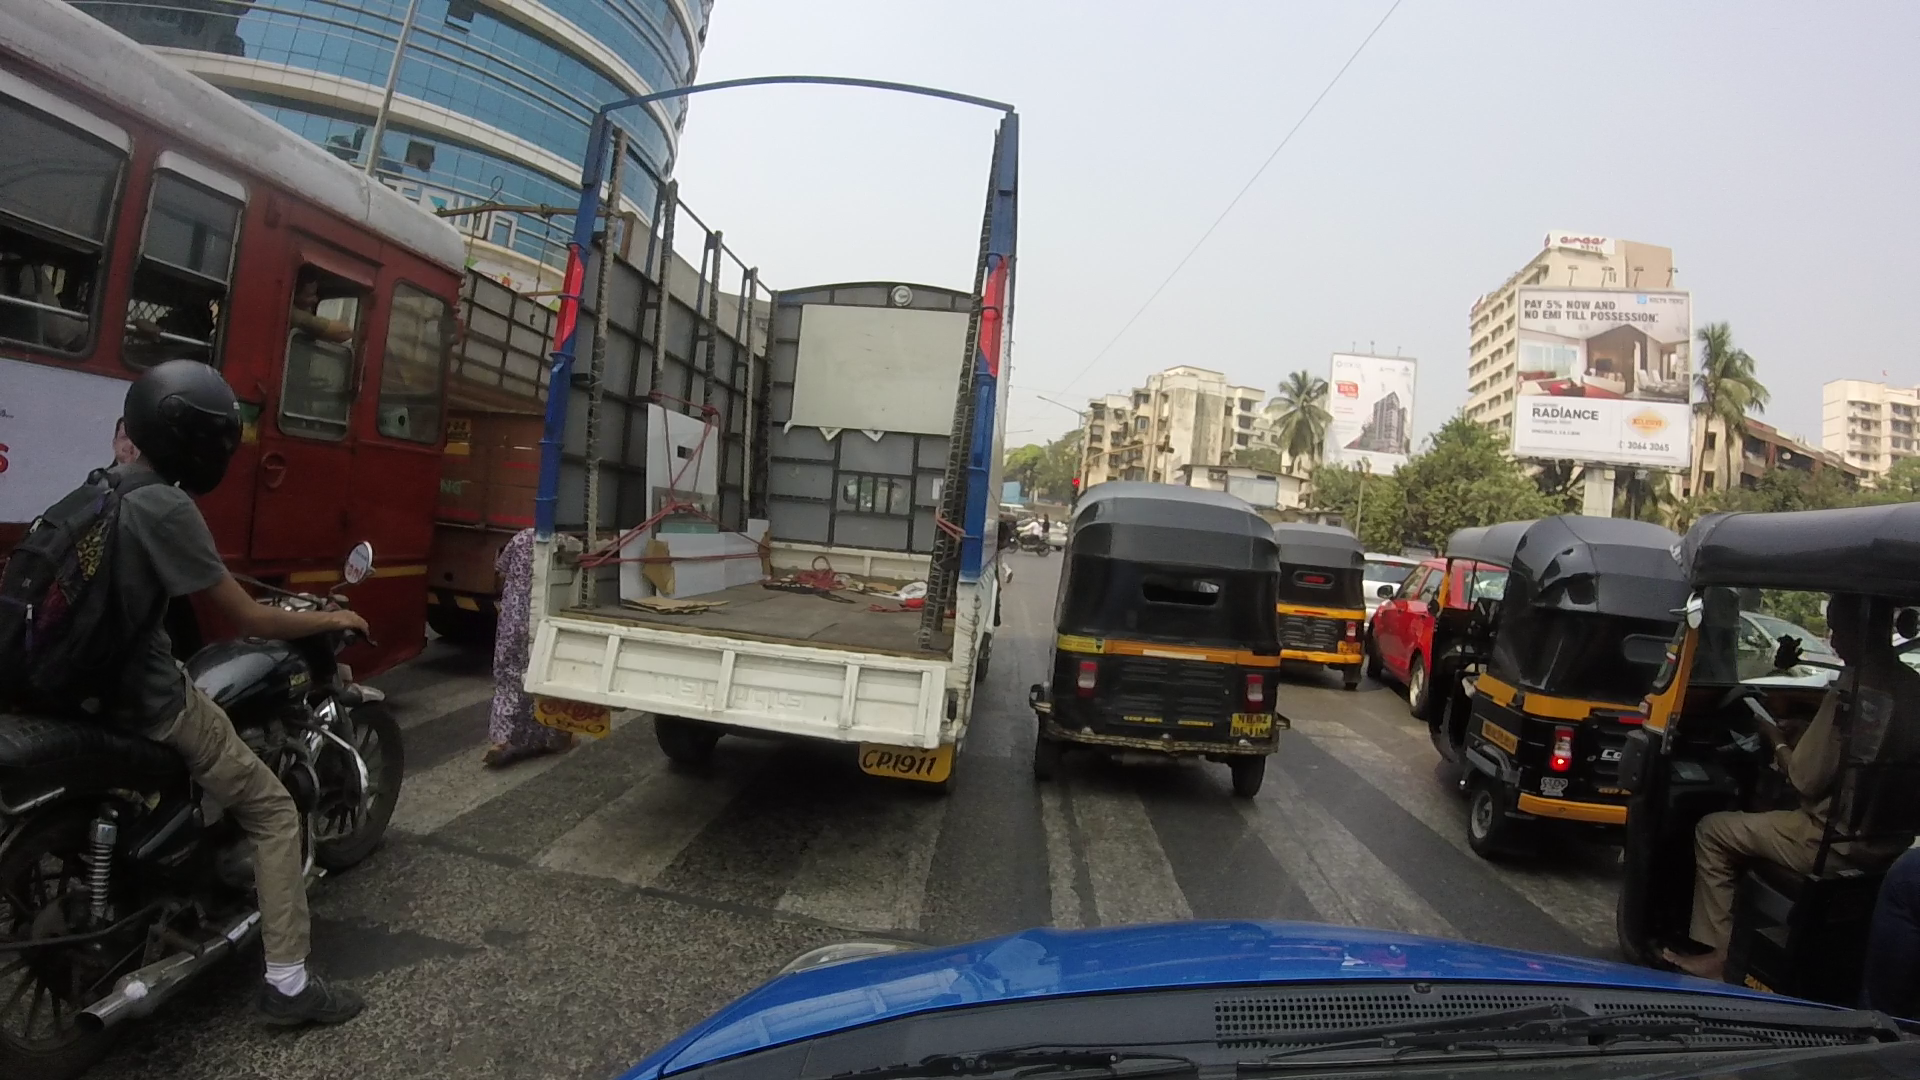bike/scooter: (11, 360, 468, 1058)
bus: (7, 7, 444, 678)
rickshaw: (1630, 498, 1920, 1023), (1007, 440, 1312, 816), (1445, 491, 1683, 837), (1269, 525, 1371, 690)
truck: (492, 4, 1062, 862)
